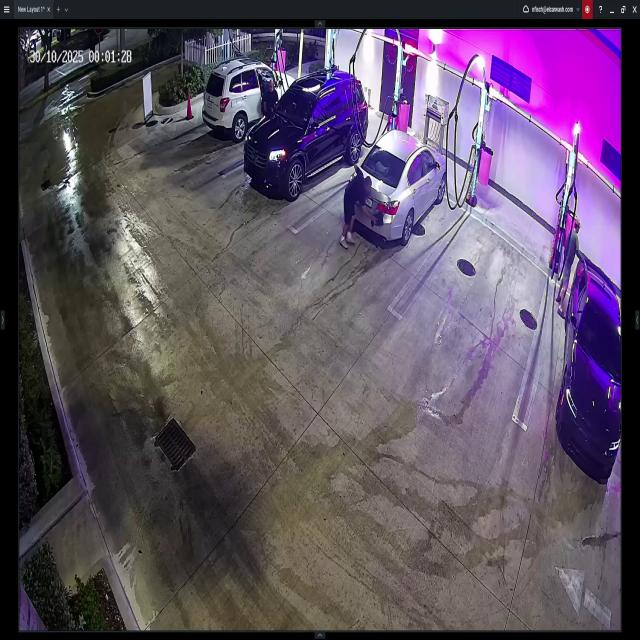Car: (553, 255, 621, 488), (246, 74, 370, 197), (345, 131, 445, 247), (201, 61, 289, 137)
